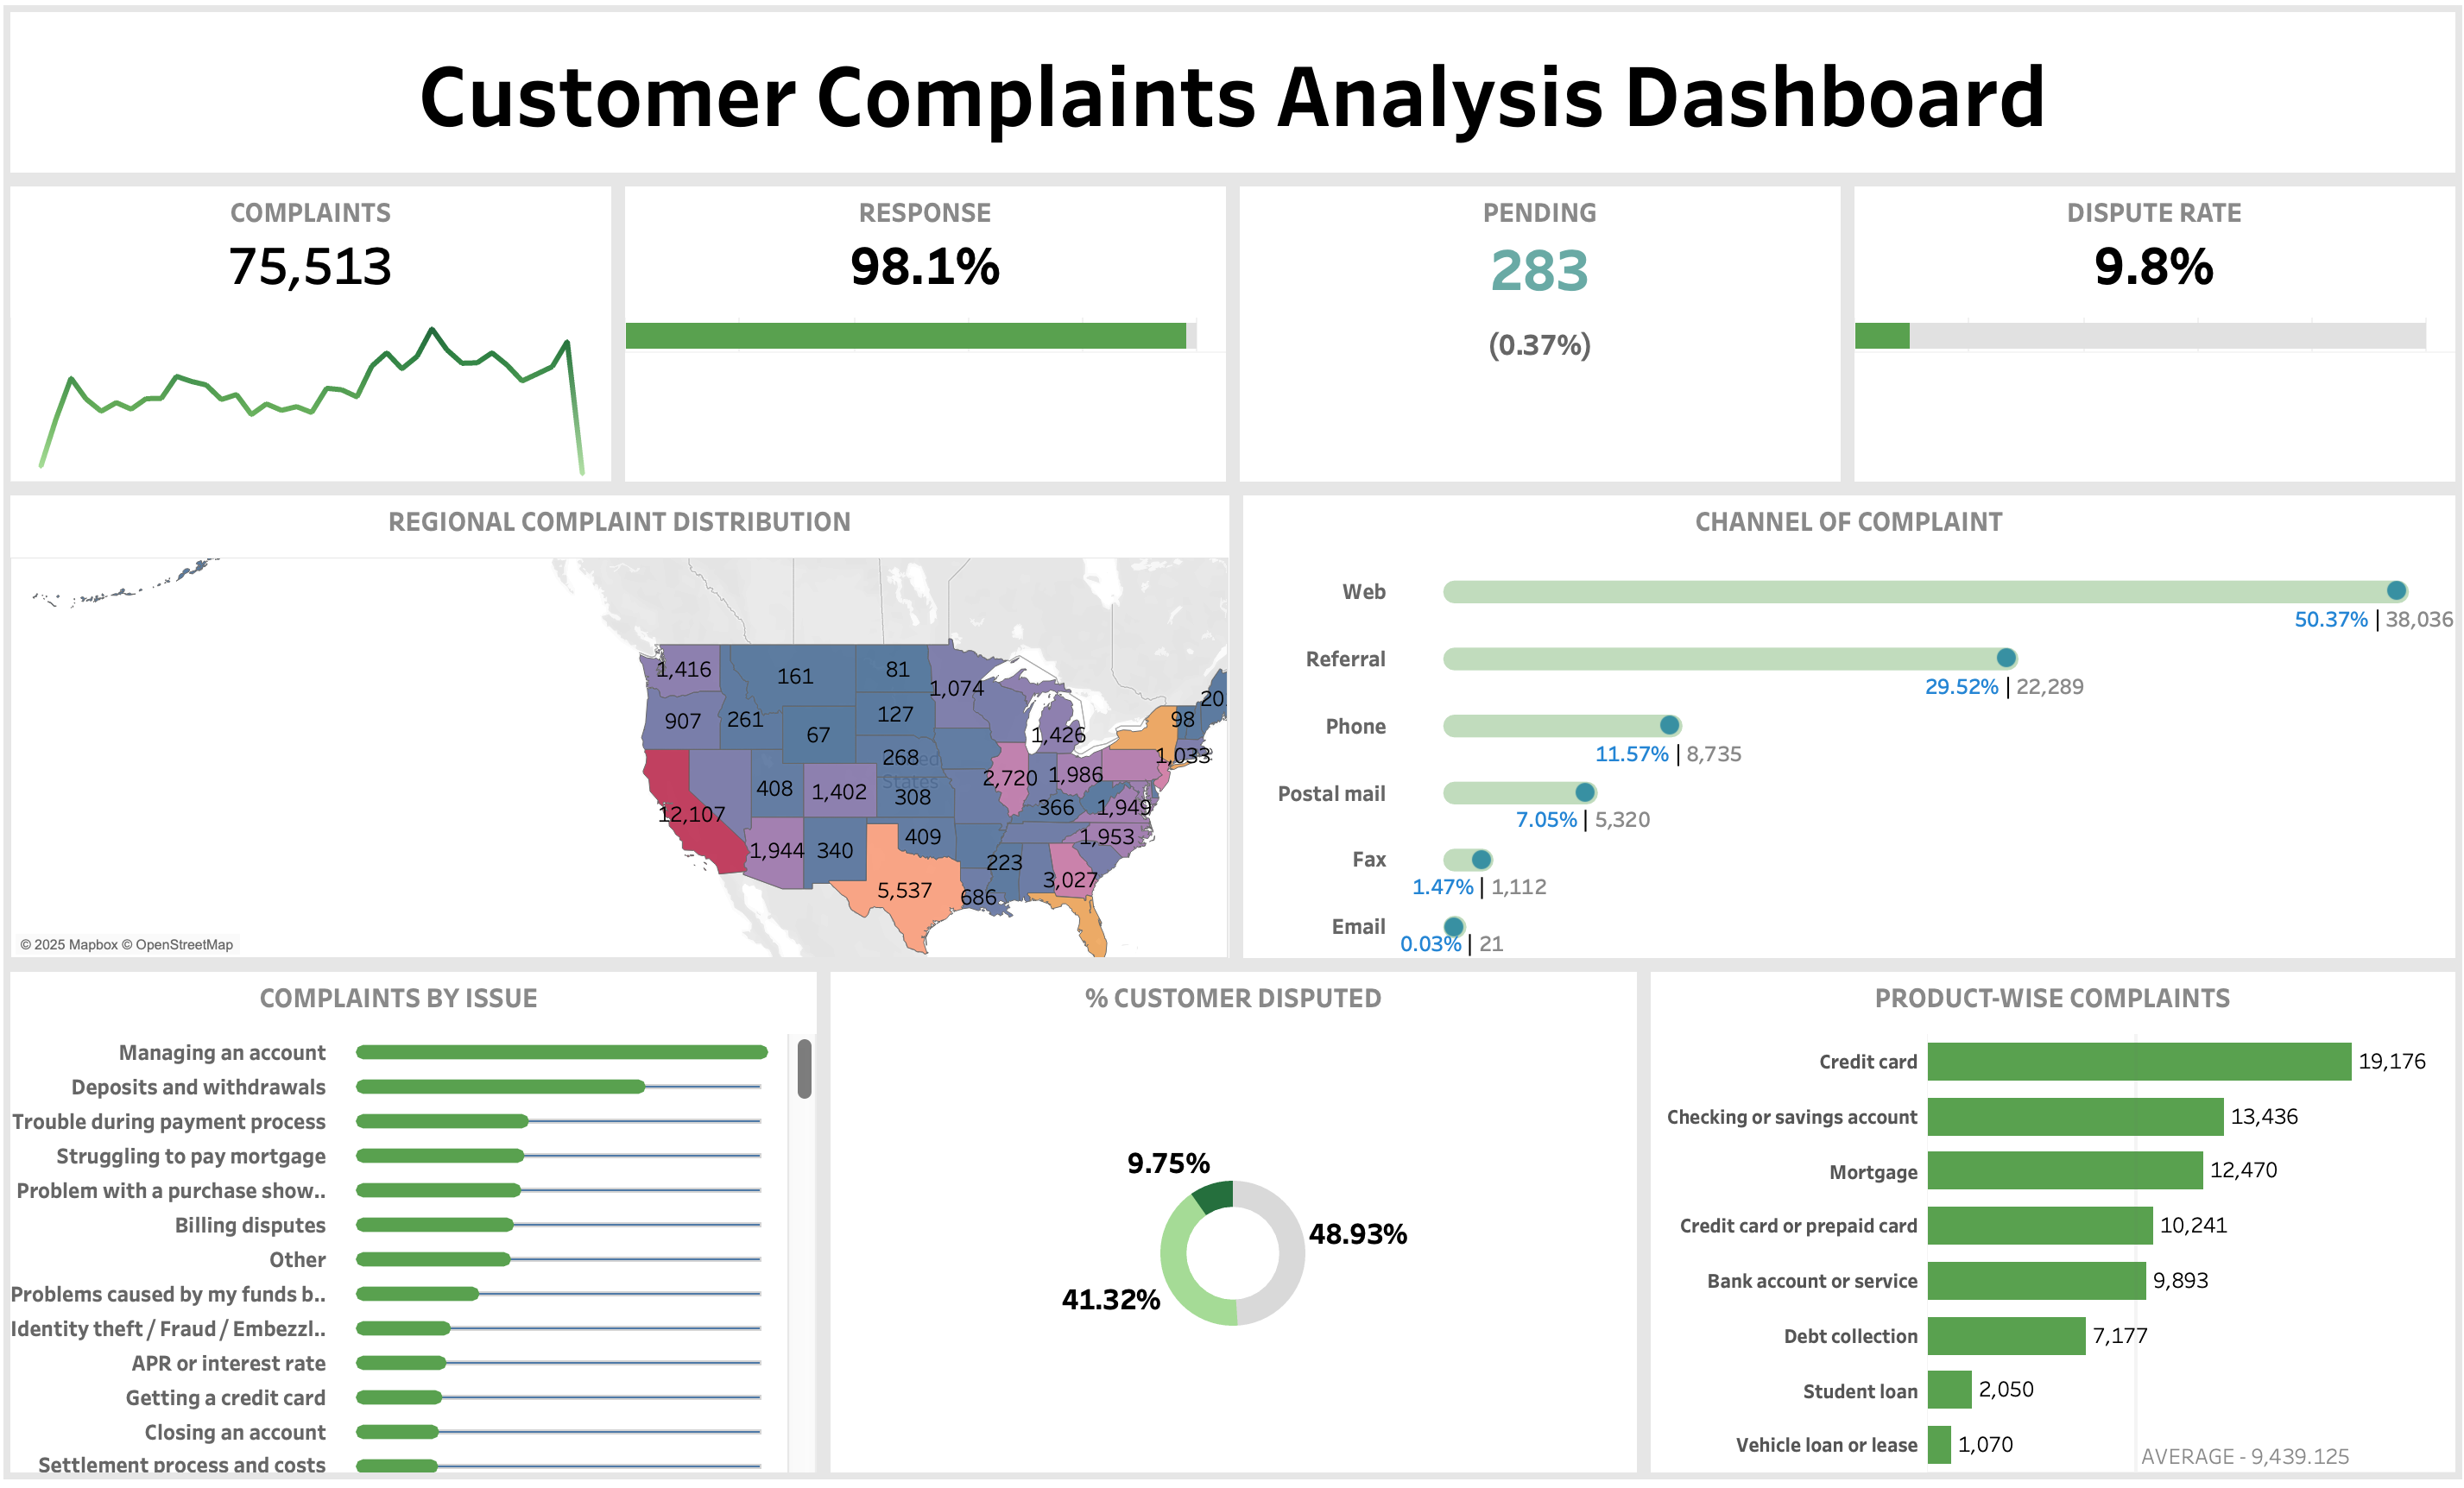

What the dashboard file says about the page in this screenshot:
{"tool":"tableau","page":{"name":"Dashboard","canvas":[1000,1000],"units":"permille","ordinal":0},"visuals":[{"type":"text","box":[6.5,9.9,987,116.4]},{"type":"worksheet","title":"COMPLAINTS","mark":"Automatic","rows":["Financial Consumer Complaints.csv_F3DBA5D953DD4981A59912A849"],"cols":["Date Sumbited"],"box":[6.5,126.2,247.3,204.2]},{"type":"worksheet","title":"RESPONSE","mark":"Bar","box":[253.9,126.2,246.6,204.2]},{"type":"worksheet","title":"PENDING","mark":"Automatic","box":[500.4,126.2,246.5,204.2]},{"type":"worksheet","title":"DISPUTE RATE","mark":"Automatic","box":[747,126.2,246.5,204.2]},{"type":"worksheet","title":"Complaints by State","mark":"Automatic","box":[6.5,330.7,495.1,317.5]},{"type":"worksheet","title":"Complaints by Media","mark":"Automatic","rows":["Submitted via"],"cols":["Financial Consumer Complaints.csv_F3DBA5D953DD4981A59912A849"],"box":[501.6,330.7,491.9,317.5]},{"type":"worksheet","title":"Complaint by Issue","mark":"Line","rows":["Issue"],"cols":["Calculation_1293096087283699725"],"box":[6.5,648.5,329.5,341.6]},{"type":"worksheet","title":"Dispute","mark":"Pie","rows":["Calculation_1293096087254110216","Calculation_1293096087254134794"],"box":[336.1,648.5,328.7,341.6]},{"type":"worksheet","title":"Comp. By Product","mark":"Automatic","rows":["Product"],"cols":["Financial Consumer Complaints.csv_F3DBA5D953DD4981A59912A849"],"box":[664.8,648.5,328.7,341.6]}]}

Visuals, with their boxes on the dashboard's canvas, which has no fixed pixel size, in thousandths of its width and height (x1, y1, x2, y2). These are canvas units, not pixel positions in the 2464x1488 screenshot, which may show the page scaled, cropped or inside an application window:
text: (left=6, top=10, right=994, bottom=126)
"COMPLAINTS" worksheet: (left=6, top=126, right=254, bottom=330)
"RESPONSE" worksheet (Bar marks): (left=254, top=126, right=500, bottom=330)
"PENDING" worksheet: (left=500, top=126, right=747, bottom=330)
"DISPUTE RATE" worksheet: (left=747, top=126, right=994, bottom=330)
"Complaints by State" worksheet: (left=6, top=331, right=502, bottom=648)
"Complaints by Media" worksheet: (left=502, top=331, right=994, bottom=648)
"Complaint by Issue" worksheet (Line marks): (left=6, top=648, right=336, bottom=990)
"Dispute" worksheet (Pie marks): (left=336, top=648, right=665, bottom=990)
"Comp. By Product" worksheet: (left=665, top=648, right=994, bottom=990)
